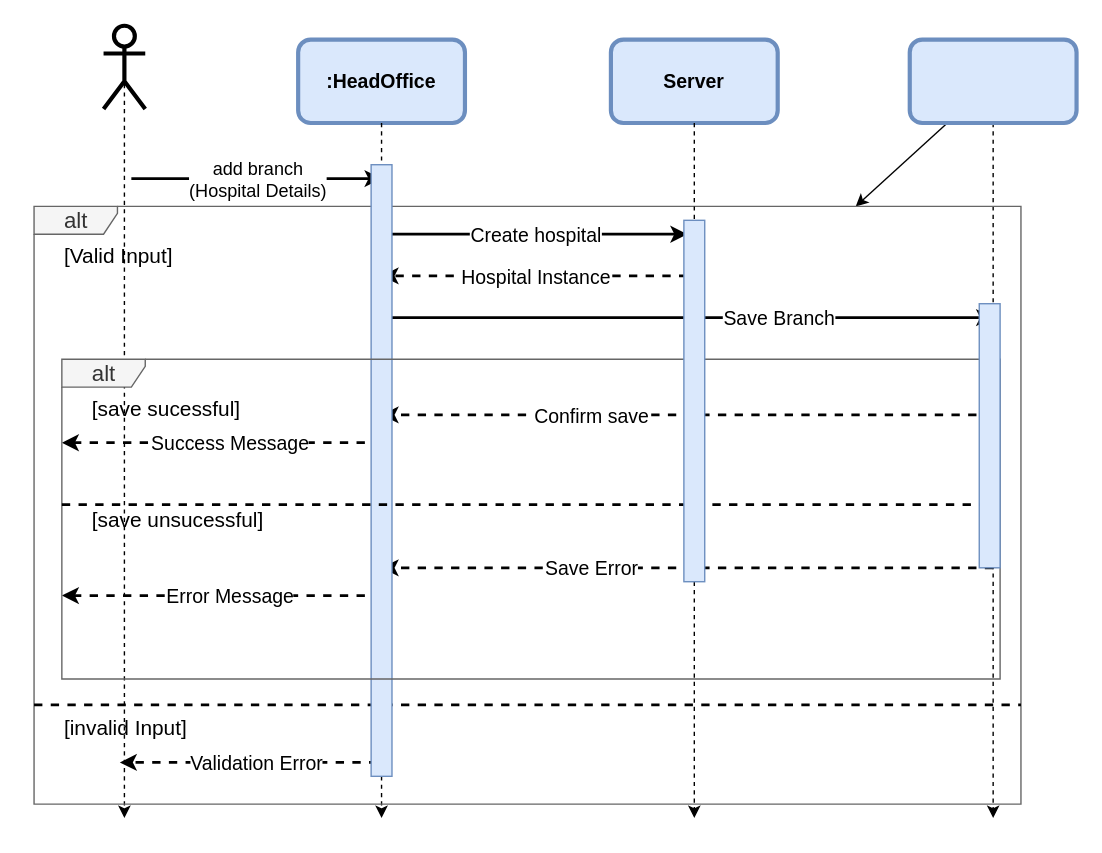
The diagram is 1102 pixels wide and 853 high, and some of its shapes have lost their labels. Each missing label, with the box of its shape:
Database: (907, 37, 1078, 124)
Head Office Adminstrator: (101, 23, 147, 111)
